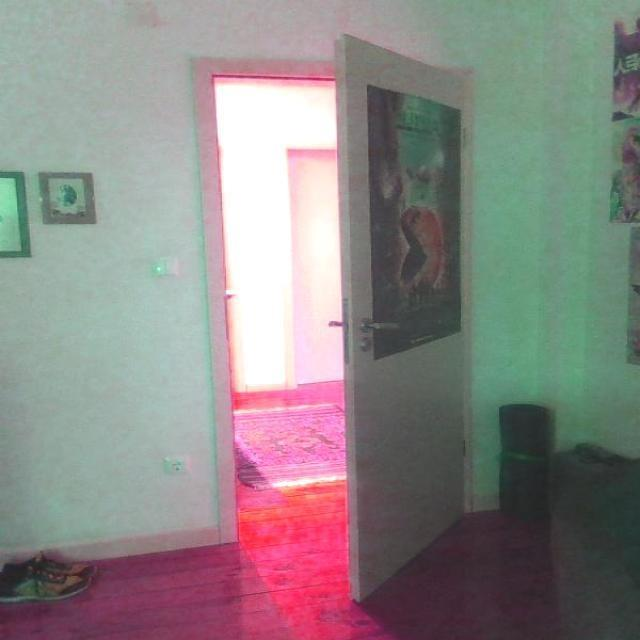door: (335, 32, 472, 603)
